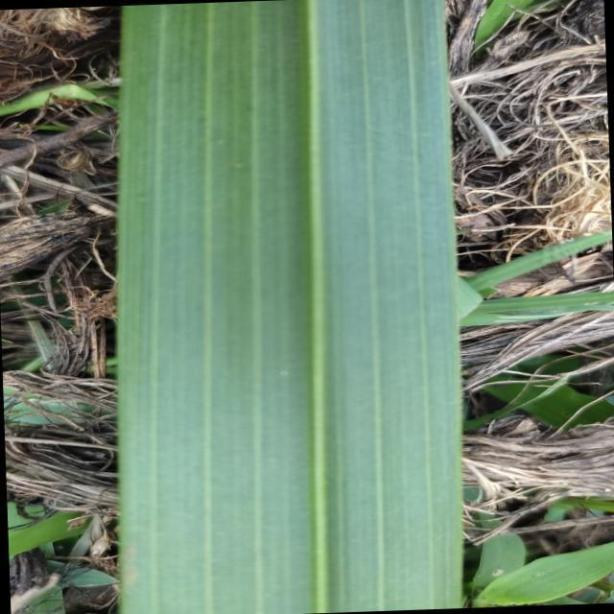Healthy: (115, 0, 461, 614)
